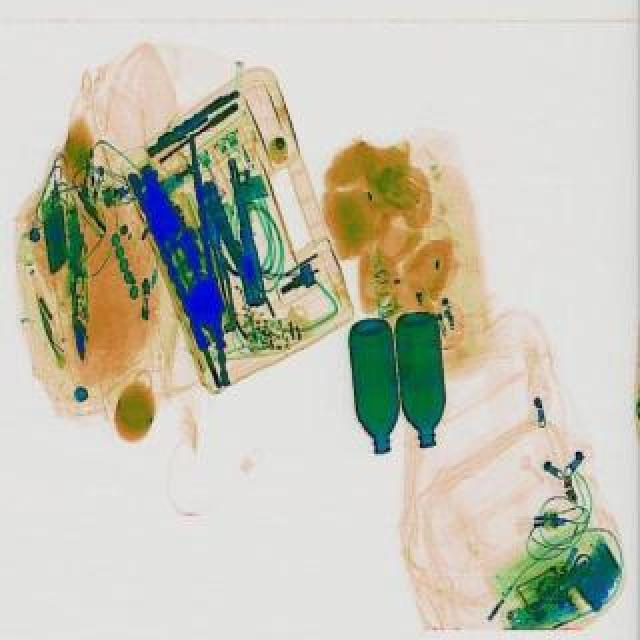wrench: (198, 168, 282, 308)
